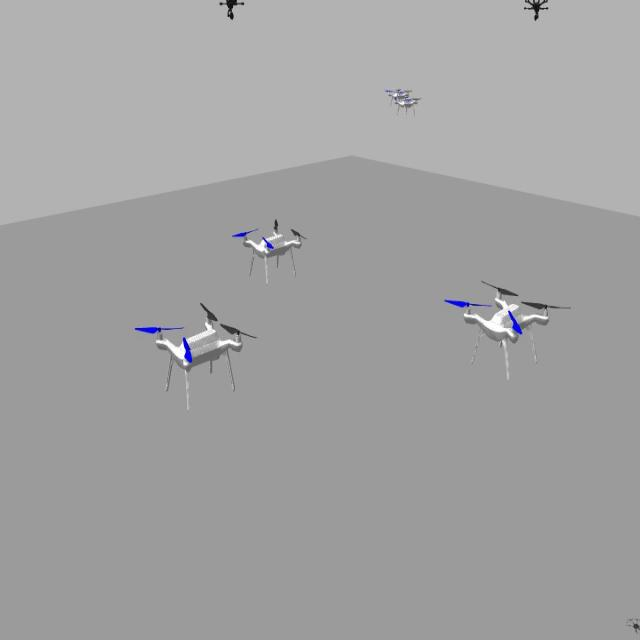Drone: (135, 296, 258, 421)
